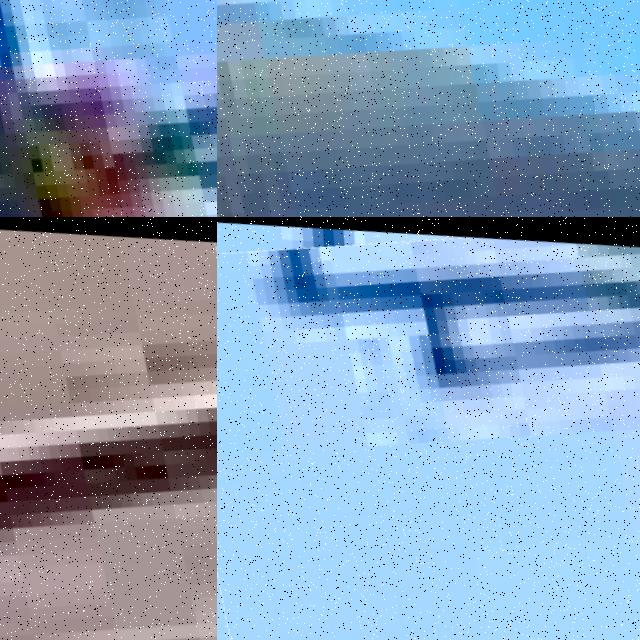drone: (217, 217, 640, 640), (217, 0, 640, 217), (0, 217, 217, 640), (0, 0, 217, 217)
